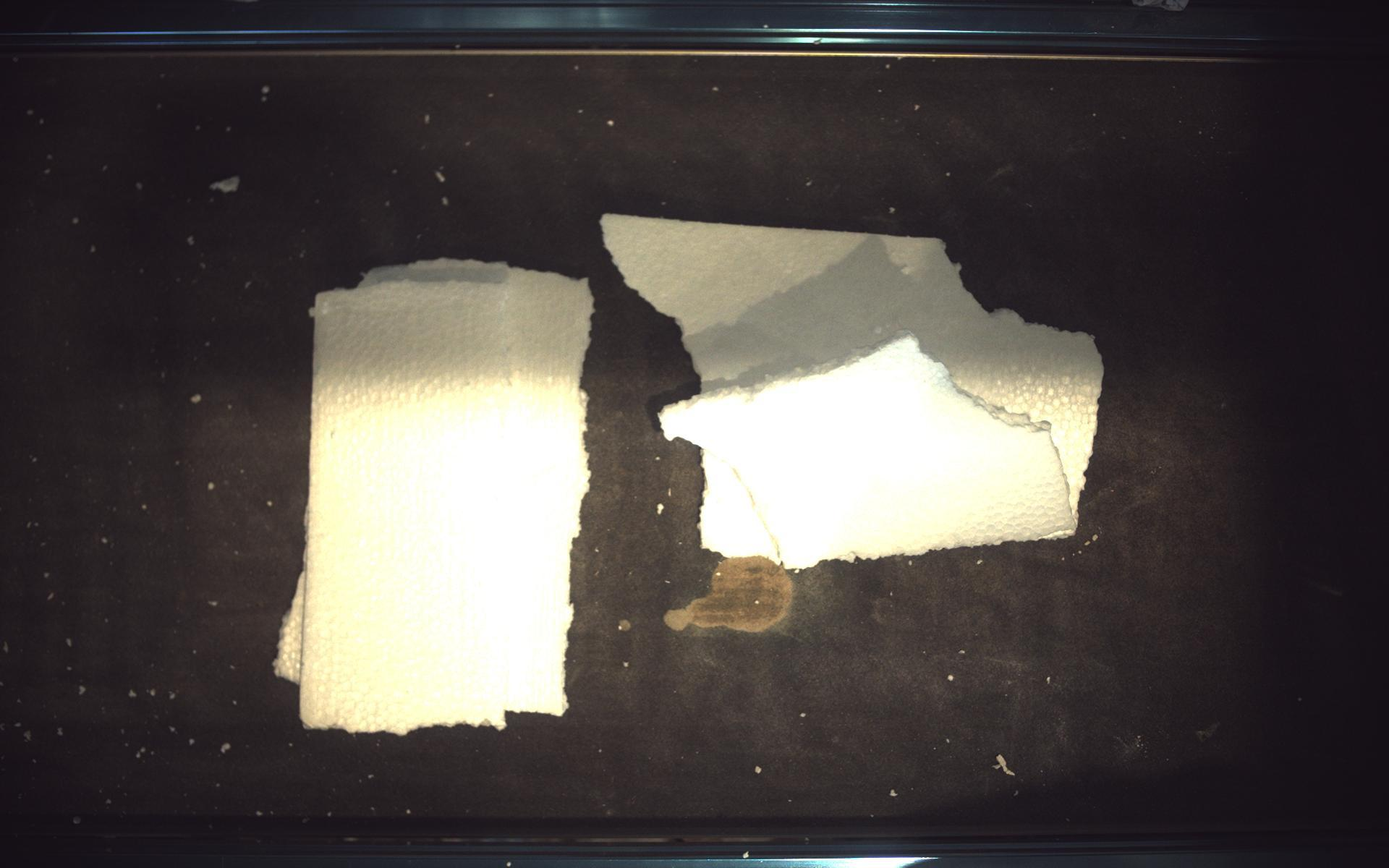foam: (275, 259, 593, 736), (603, 214, 1105, 510), (662, 333, 1077, 569)
